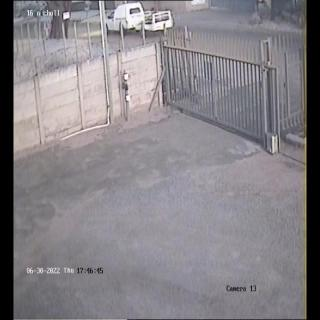car: (106, 2, 144, 35)
